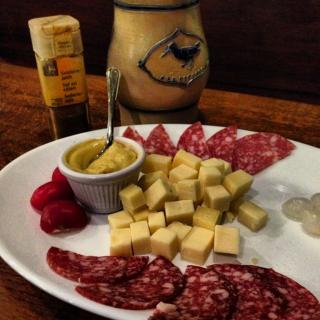Cheese: (106, 147, 269, 265), (66, 138, 142, 174)
